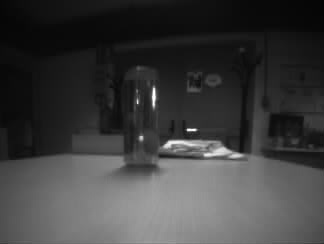Tin can: (123, 66, 161, 167)
